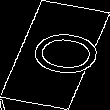O_E: (9, 27, 101, 83)
